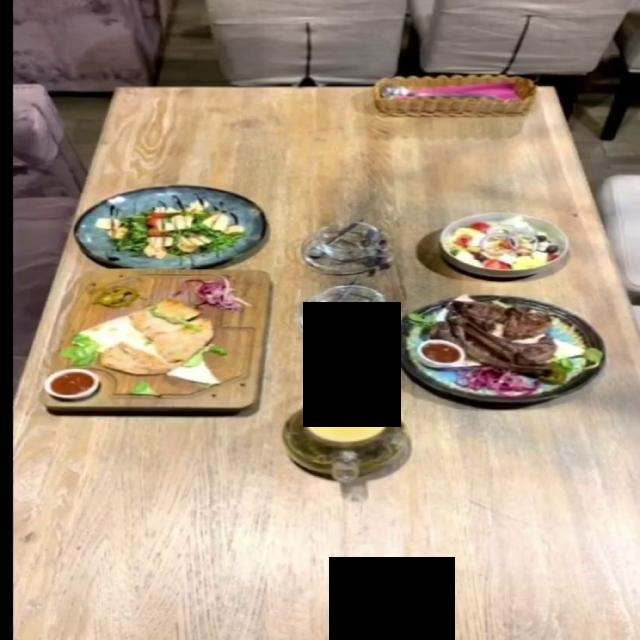meat: (37, 270, 267, 407), (390, 294, 606, 404)
salad: (71, 185, 265, 267), (437, 211, 571, 276)
tea: (280, 395, 409, 480)
